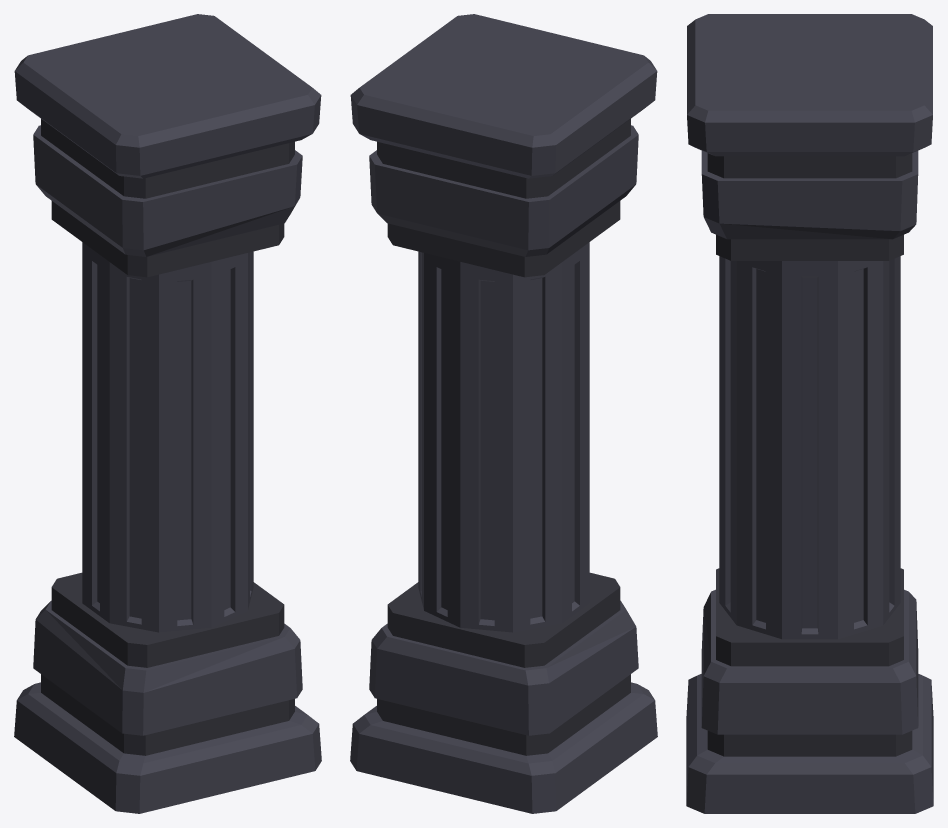
The picture shows the model from 3 angles, left to right: view 1: azimuth 30°, elevation 25°; view 2: azimuth 150°, elevation 25°; view 3: azimuth 270°, elevation 25°; orthographic projection. The views are drawn at different scales.
Parts seen in each view (by area): view 1: Column2_1; view 2: Column2_1; view 3: Column2_1.
Part boxes in pixels (bbox=[...]): Column2_1: bbox=[14, 14, 321, 813]; Column2_1: bbox=[350, 14, 657, 813]; Column2_1: bbox=[686, 14, 933, 813].
Bounding box in the file's own units: 130 × 407 × 130.
Materials: 1 (1 with a texture image).
